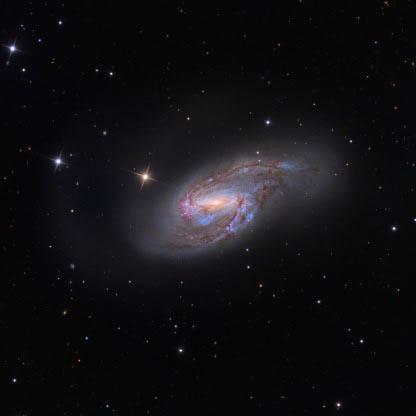Messier 66: (104, 115, 362, 279)
